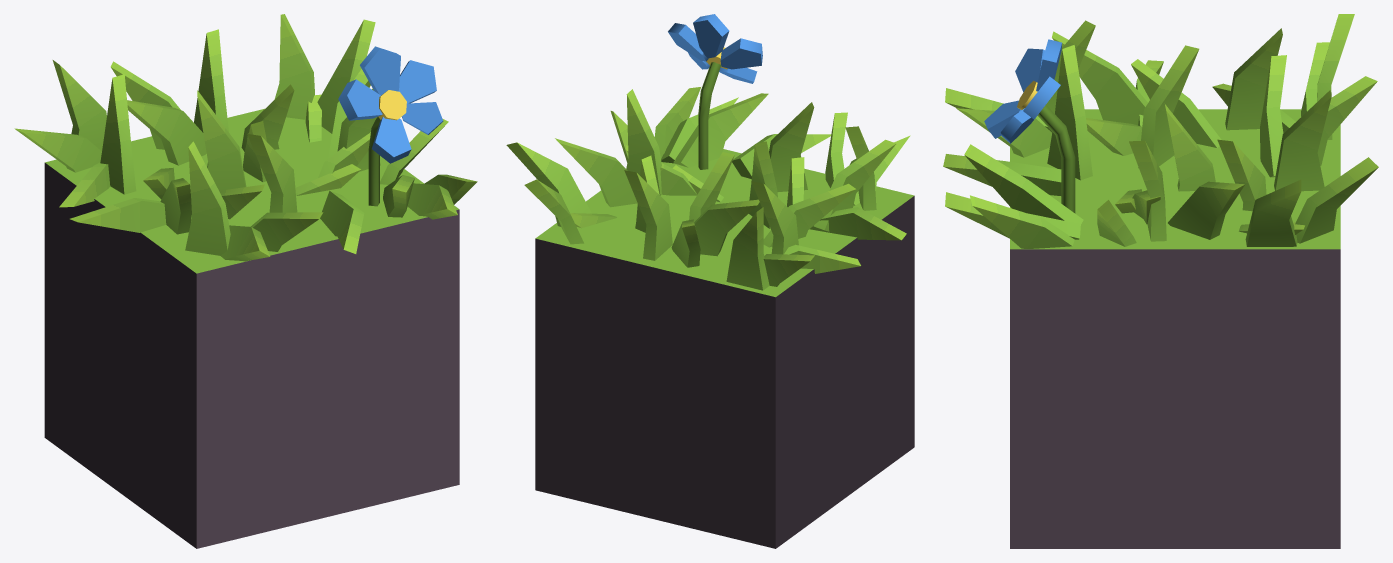
Rendered from tile_floor_nature_grass02.FBX.
The picture shows the model from 3 angles, left to right: view 1: azimuth 30°, elevation 25°; view 2: azimuth 150°, elevation 25°; view 3: azimuth 270°, elevation 25°; orthographic projection. The views are drawn at different scales.
Parts seen in each view (by area): view 1: tile_floor_nature_grass02; view 2: tile_floor_nature_grass02; view 3: tile_floor_nature_grass02.
Part boxes in pixels (x1,y1,x2,y2): tile_floor_nature_grass02: (14, 14, 477, 548); tile_floor_nature_grass02: (506, 14, 914, 548); tile_floor_nature_grass02: (943, 14, 1378, 548).
Size of the model in its own units: 55.29 by 62.61 by 51.87.
